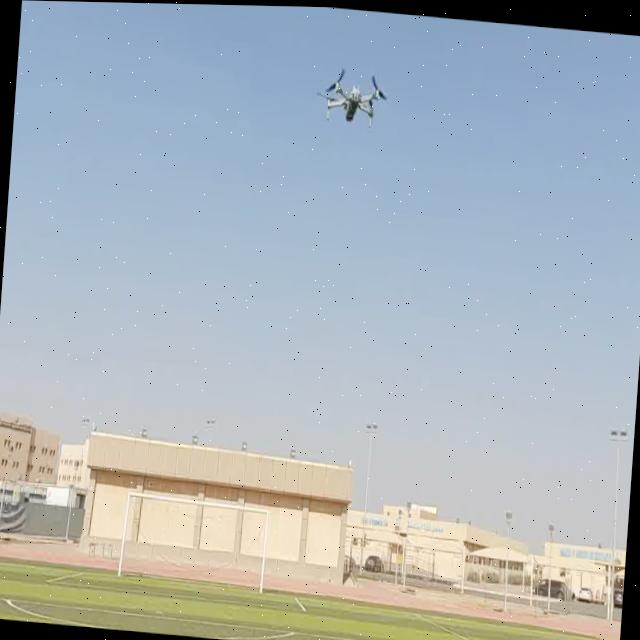drone: (316, 52, 394, 132)
